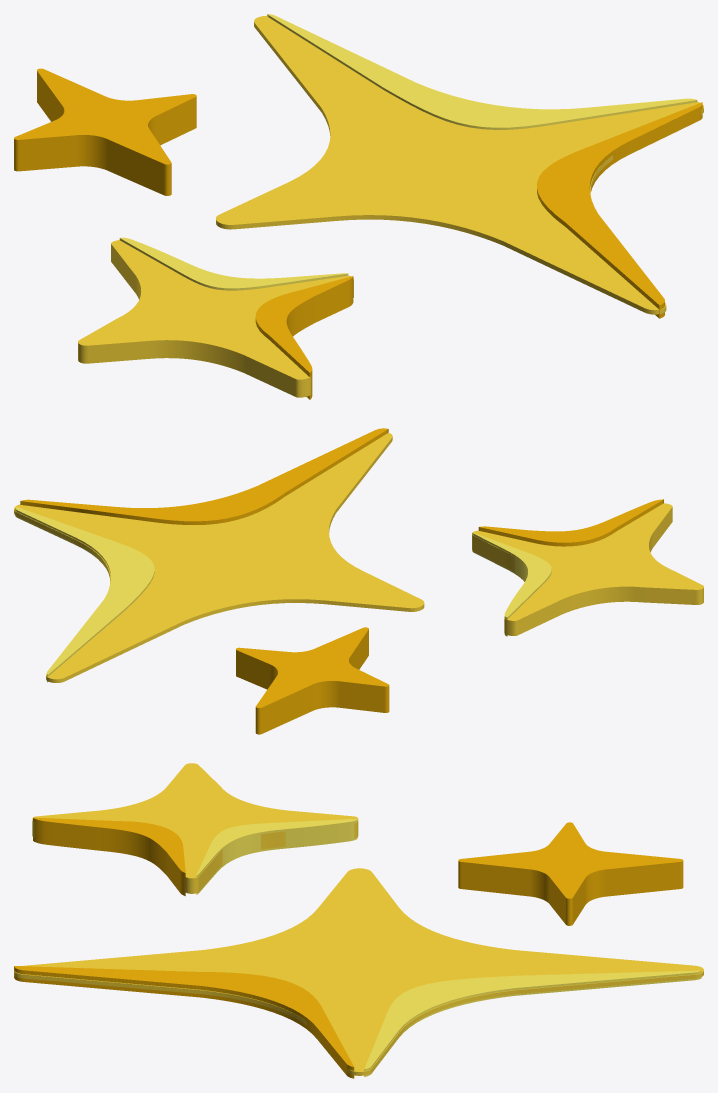
Rendered from emoji_u2728.glb.
3 views of the same model, one above another, from view 1: azimuth 30°, elevation 25°; view 2: azimuth 150°, elevation 25°; view 3: azimuth 270°, elevation 25° (orthographic). The views are drawn at different scales.
Visible parts, largest first — view 1: emoji_u2728; view 2: emoji_u2728; view 3: emoji_u2728.
Part boxes in pixels (bbox=[...]): emoji_u2728: bbox=[14, 14, 703, 399]; emoji_u2728: bbox=[14, 428, 703, 734]; emoji_u2728: bbox=[14, 763, 703, 1078].
Size of the model in its own units: 0.0335 by 0.0014 by 0.0322.
